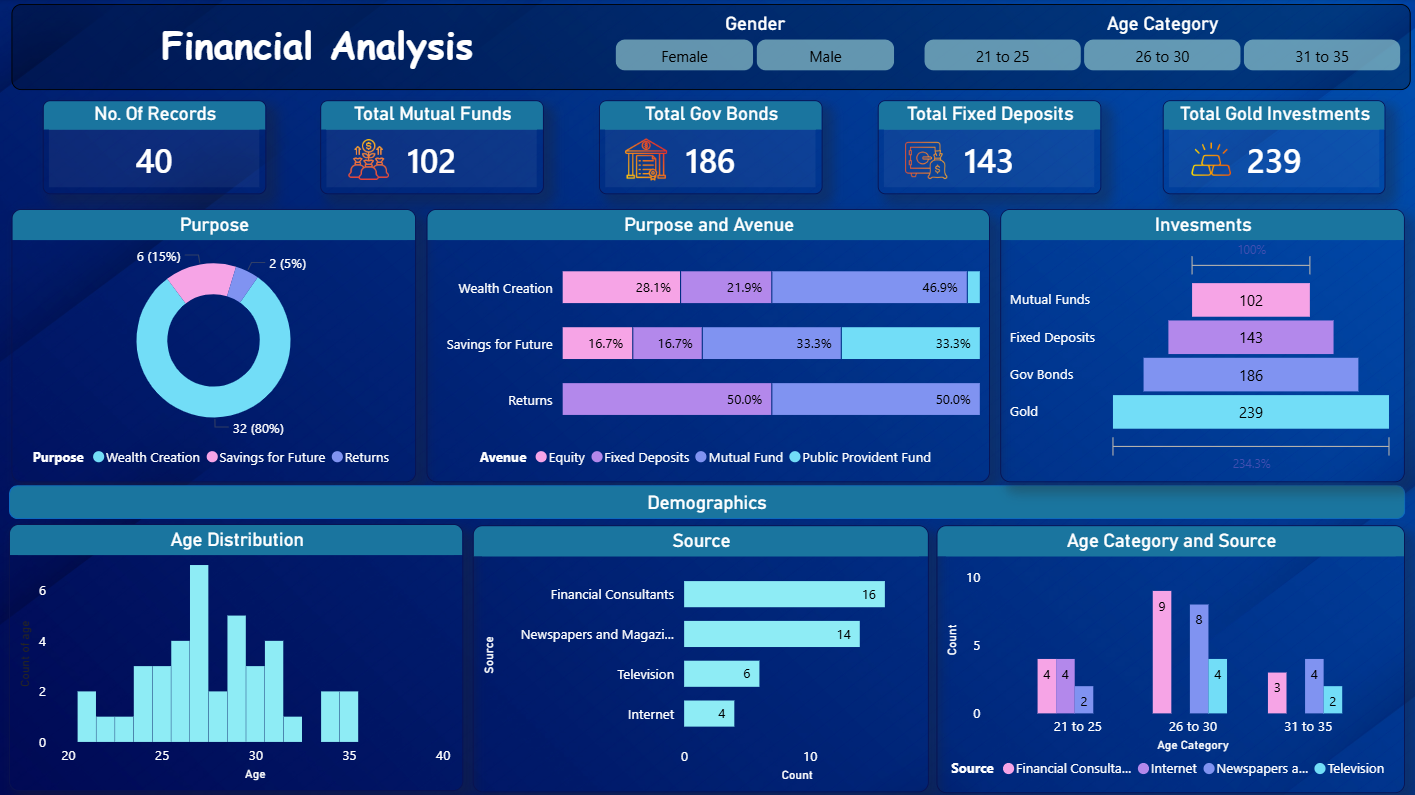

This screenshot's page, from the dashboard's own definition file:
{"tool":"powerbi","page":{"name":"Dashboard","canvas":[1280,720],"ordinal":0},"visuals":[{"type":"shape","box":[11.2,5,1261.2,77.5],"z":0},{"type":"advancedSlicerVisual","fields":{"Values":["Finance_data.gender"]},"box":[550.9,12.3,261.4,57.7],"z":1000},{"type":"cardVisual","title":"Total Mutual Funds","fields":{"Data":["Sum(Finance_data.Mutual_Funds)"]},"box":[290,91,201.2,85],"z":2000},{"type":"cardVisual","title":"Total Gov Bonds","fields":{"Data":["Sum(Finance_data.Government_Bonds)"]},"box":[541.3,91,201.2,85],"z":3000},{"type":"cardVisual","title":"Total Fixed Deposits","fields":{"Data":["Sum(Finance_data.Fixed_Deposits)"]},"box":[792.8,91,201.2,85],"z":4000},{"type":"cardVisual","title":"Total Gold Investments","fields":{"Data":["Sum(Finance_data.Gold)"]},"box":[1049.3,91,201,85],"z":5000},{"type":"cardVisual","title":"No. Of Records","fields":{"Data":["CountNonNull(Finance_data.gender)"]},"box":[39.4,91,201.2,85],"z":6000},{"type":"clusteredColumnChart","title":"Age Distribution","fields":{"Y":["CountNonNull(Finance_data.age)"],"Category":["Finance_data.age"]},"box":[9,473.1,409.9,240.5],"z":7000},{"type":"donutChart","title":"Purpose","fields":{"Category":["Finance_data.Purpose"],"Y":["CountNonNull(Finance_data.Purpose)"]},"box":[11.3,189.7,364.7,246.2],"z":8000},{"type":"hundredPercentStackedBarChart","title":"Purpose and Avenue","fields":{"Category":["Finance_data.Purpose"],"Series":["Finance_data.Avenue"],"Y":["CountNonNull(Finance_data.Purpose)"]},"box":[385,189.7,508.1,246.2],"z":9000},{"type":"clusteredBarChart","title":"Source","fields":{"Category":["Finance_data.Source"],"Y":["CountNonNull(Finance_data.Source)"]},"box":[426.8,474.2,411,240.5],"z":10000},{"type":"advancedSlicerVisual","fields":{"Values":["Finance_data.age_category"]},"box":[829.5,12.3,439.3,57.7],"z":11000},{"type":"shape","box":[9,438.5,1259,30.5],"z":12000},{"type":"shape","box":[104.3,11,364.4,58.9],"z":13000},{"type":"image","box":[301,125.3,65,39.3],"z":14000},{"type":"image","box":[551.3,125.3,65,39.3],"z":15000},{"type":"image","box":[804.1,125.3,65,41],"z":16000},{"type":"image","box":[1060.5,124.1,65,40.5],"z":17000},{"type":"clusteredColumnChart","title":"Age Category and Source","fields":{"Category":["Finance_data.age_category"],"Y":["CountNonNull(Finance_data.Source)"],"Series":["Finance_data.Source"]},"box":[845.7,474.2,422.3,241.6],"z":18000},{"type":"funnel","title":"Invesments","fields":{"Y":["Sum(Finance_data.Mutual_Funds)","Sum(Finance_data.Fixed_Deposits)","Sum(Finance_data.Government_Bonds)","Sum(Finance_data.Gold)"]},"box":[903.3,189.7,364.7,246.2],"z":19000}]}

Visuals, with their boxes in screenshot pixels (x1, y1, x2, y2), scaled from the page's 1280x720 canvas onto the 1415x795 screenshot:
shape: (12,6,1407,91)
advancedSlicerVisual - Finance_data.gender: (609,14,898,77)
"Total Mutual Funds" cardVisual: (321,100,543,194)
"Total Gov Bonds" cardVisual: (598,100,821,194)
"Total Fixed Deposits" cardVisual: (876,100,1099,194)
"Total Gold Investments" cardVisual: (1160,100,1382,194)
"No. Of Records" cardVisual: (44,100,266,194)
"Age Distribution" clusteredColumnChart: (10,522,463,788)
"Purpose" donutChart: (12,209,416,481)
"Purpose and Avenue" hundredPercentStackedBarChart: (426,209,987,481)
"Source" clusteredBarChart: (472,524,926,789)
advancedSlicerVisual - Finance_data.age_category: (917,14,1403,77)
shape: (10,484,1402,518)
shape: (115,12,518,77)
image: (333,138,405,182)
image: (609,138,681,182)
image: (889,138,961,184)
image: (1172,137,1244,182)
"Age Category and Source" clusteredColumnChart: (935,524,1402,790)
"Invesments" funnel: (999,209,1402,481)
